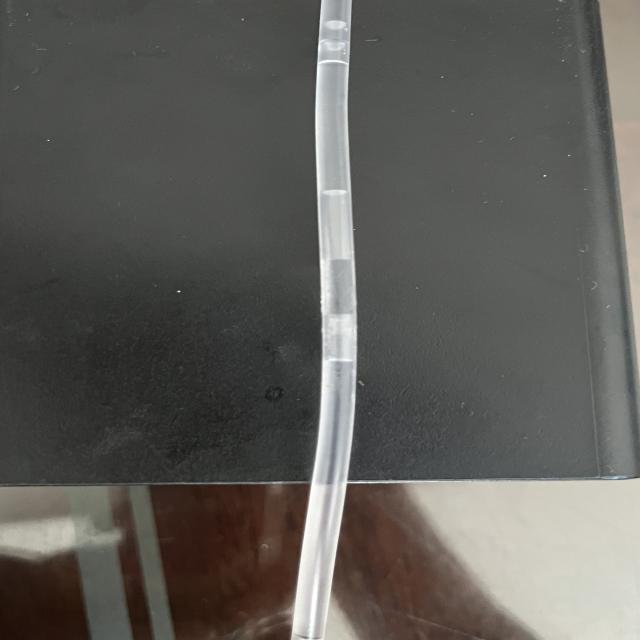bubble: (279, 476, 355, 638), (315, 185, 364, 261), (310, 312, 384, 341), (317, 342, 384, 367), (319, 18, 364, 32), (304, 56, 346, 70), (322, 37, 352, 53)
